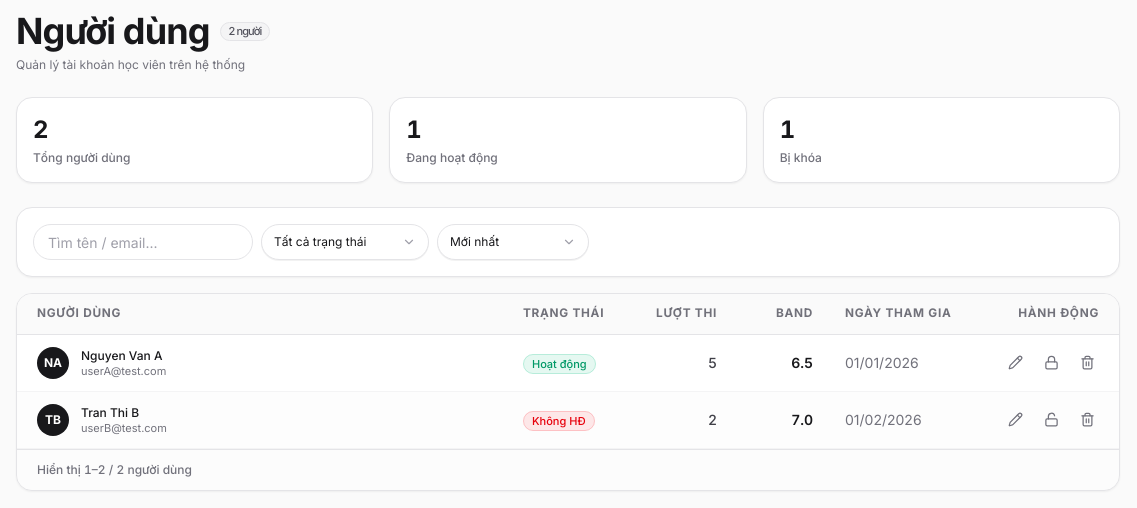
Test: Users page — TanStack Query & Skeleton caching › re-queries with the selected status when the status dropdown changes
Check: the text "Nguyen Van A" is shown, box left=81, top=348, right=166, bottom=364
Click the button with aria-label "Lọc theo trạng thái" at (345, 242), box left=261, top=224, right=429, bottom=260
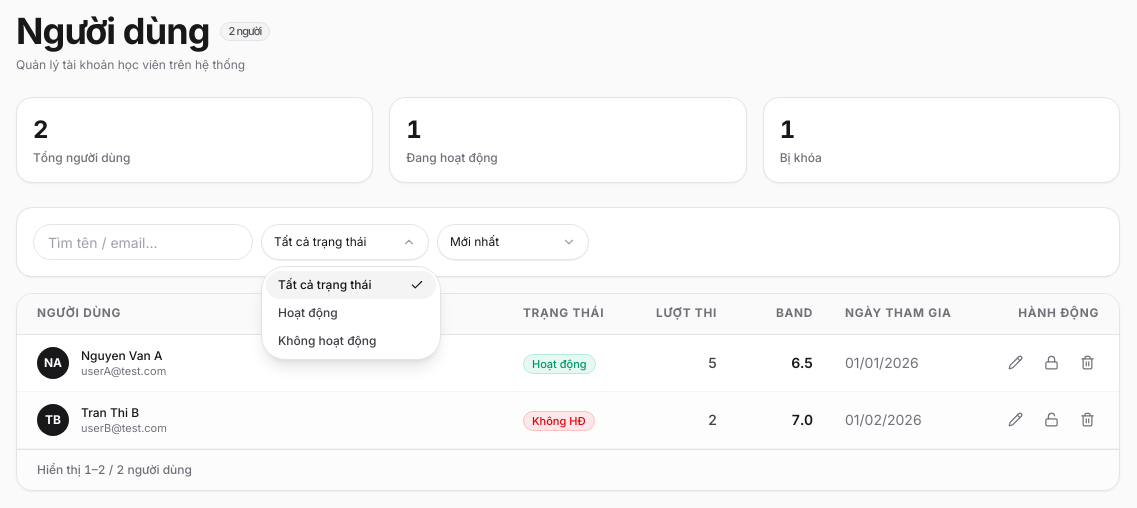
Click the option "Không hoạt động" at (327, 340), box left=278, top=333, right=376, bottom=348
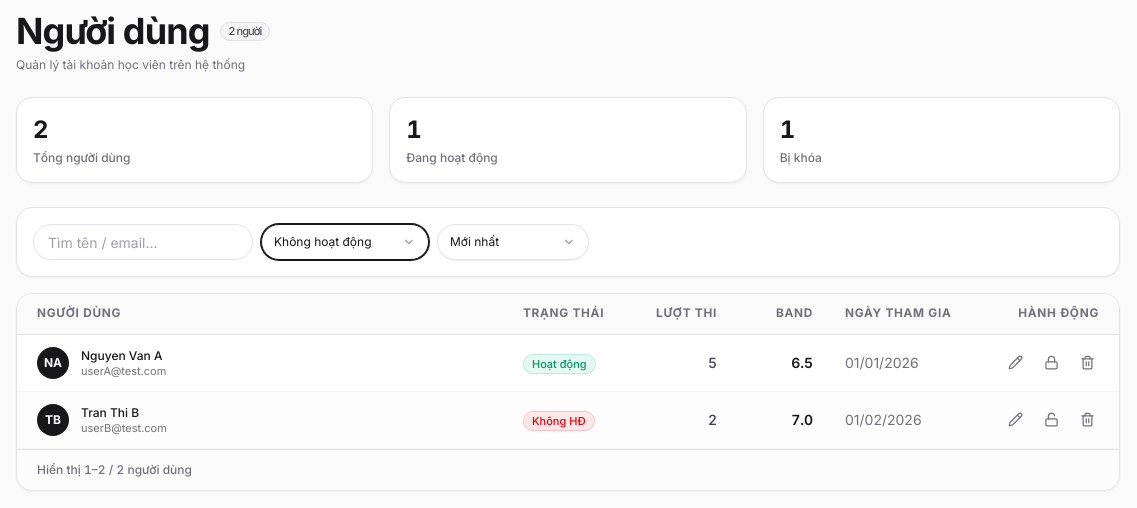
Check: the text "Không hoạt động" is shown, box left=274, top=234, right=372, bottom=249
